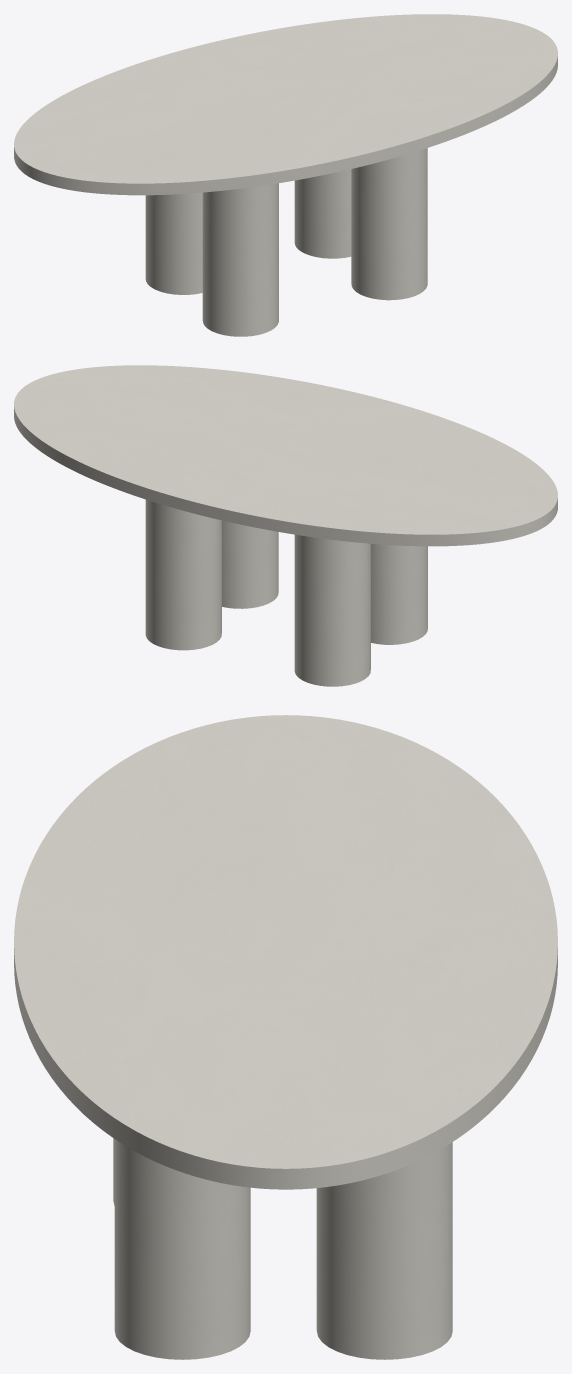
Rendered from pale_ellips_standard_grove.glb.
3 views of the same model, one above another, from view 1: azimuth 30°, elevation 25°; view 2: azimuth 150°, elevation 25°; view 3: azimuth 270°, elevation 25° (orthographic). The views are drawn at different scales.
Visible parts, largest first — view 1: standard_ellips, grove; view 2: standard_ellips, grove; view 3: standard_ellips, grove.
Part boxes in pixels (x1,y1,x2,y2): standard_ellips: (14,14,557,195); grove: (145,148,427,336); standard_ellips: (14,365,557,546); grove: (145,499,427,686); standard_ellips: (14,715,557,1189); grove: (113,1138,452,1359).
Size of the model in its own units: 7.5 by 2.5 by 3.8.
Materials: 1 (1 with a texture image).
